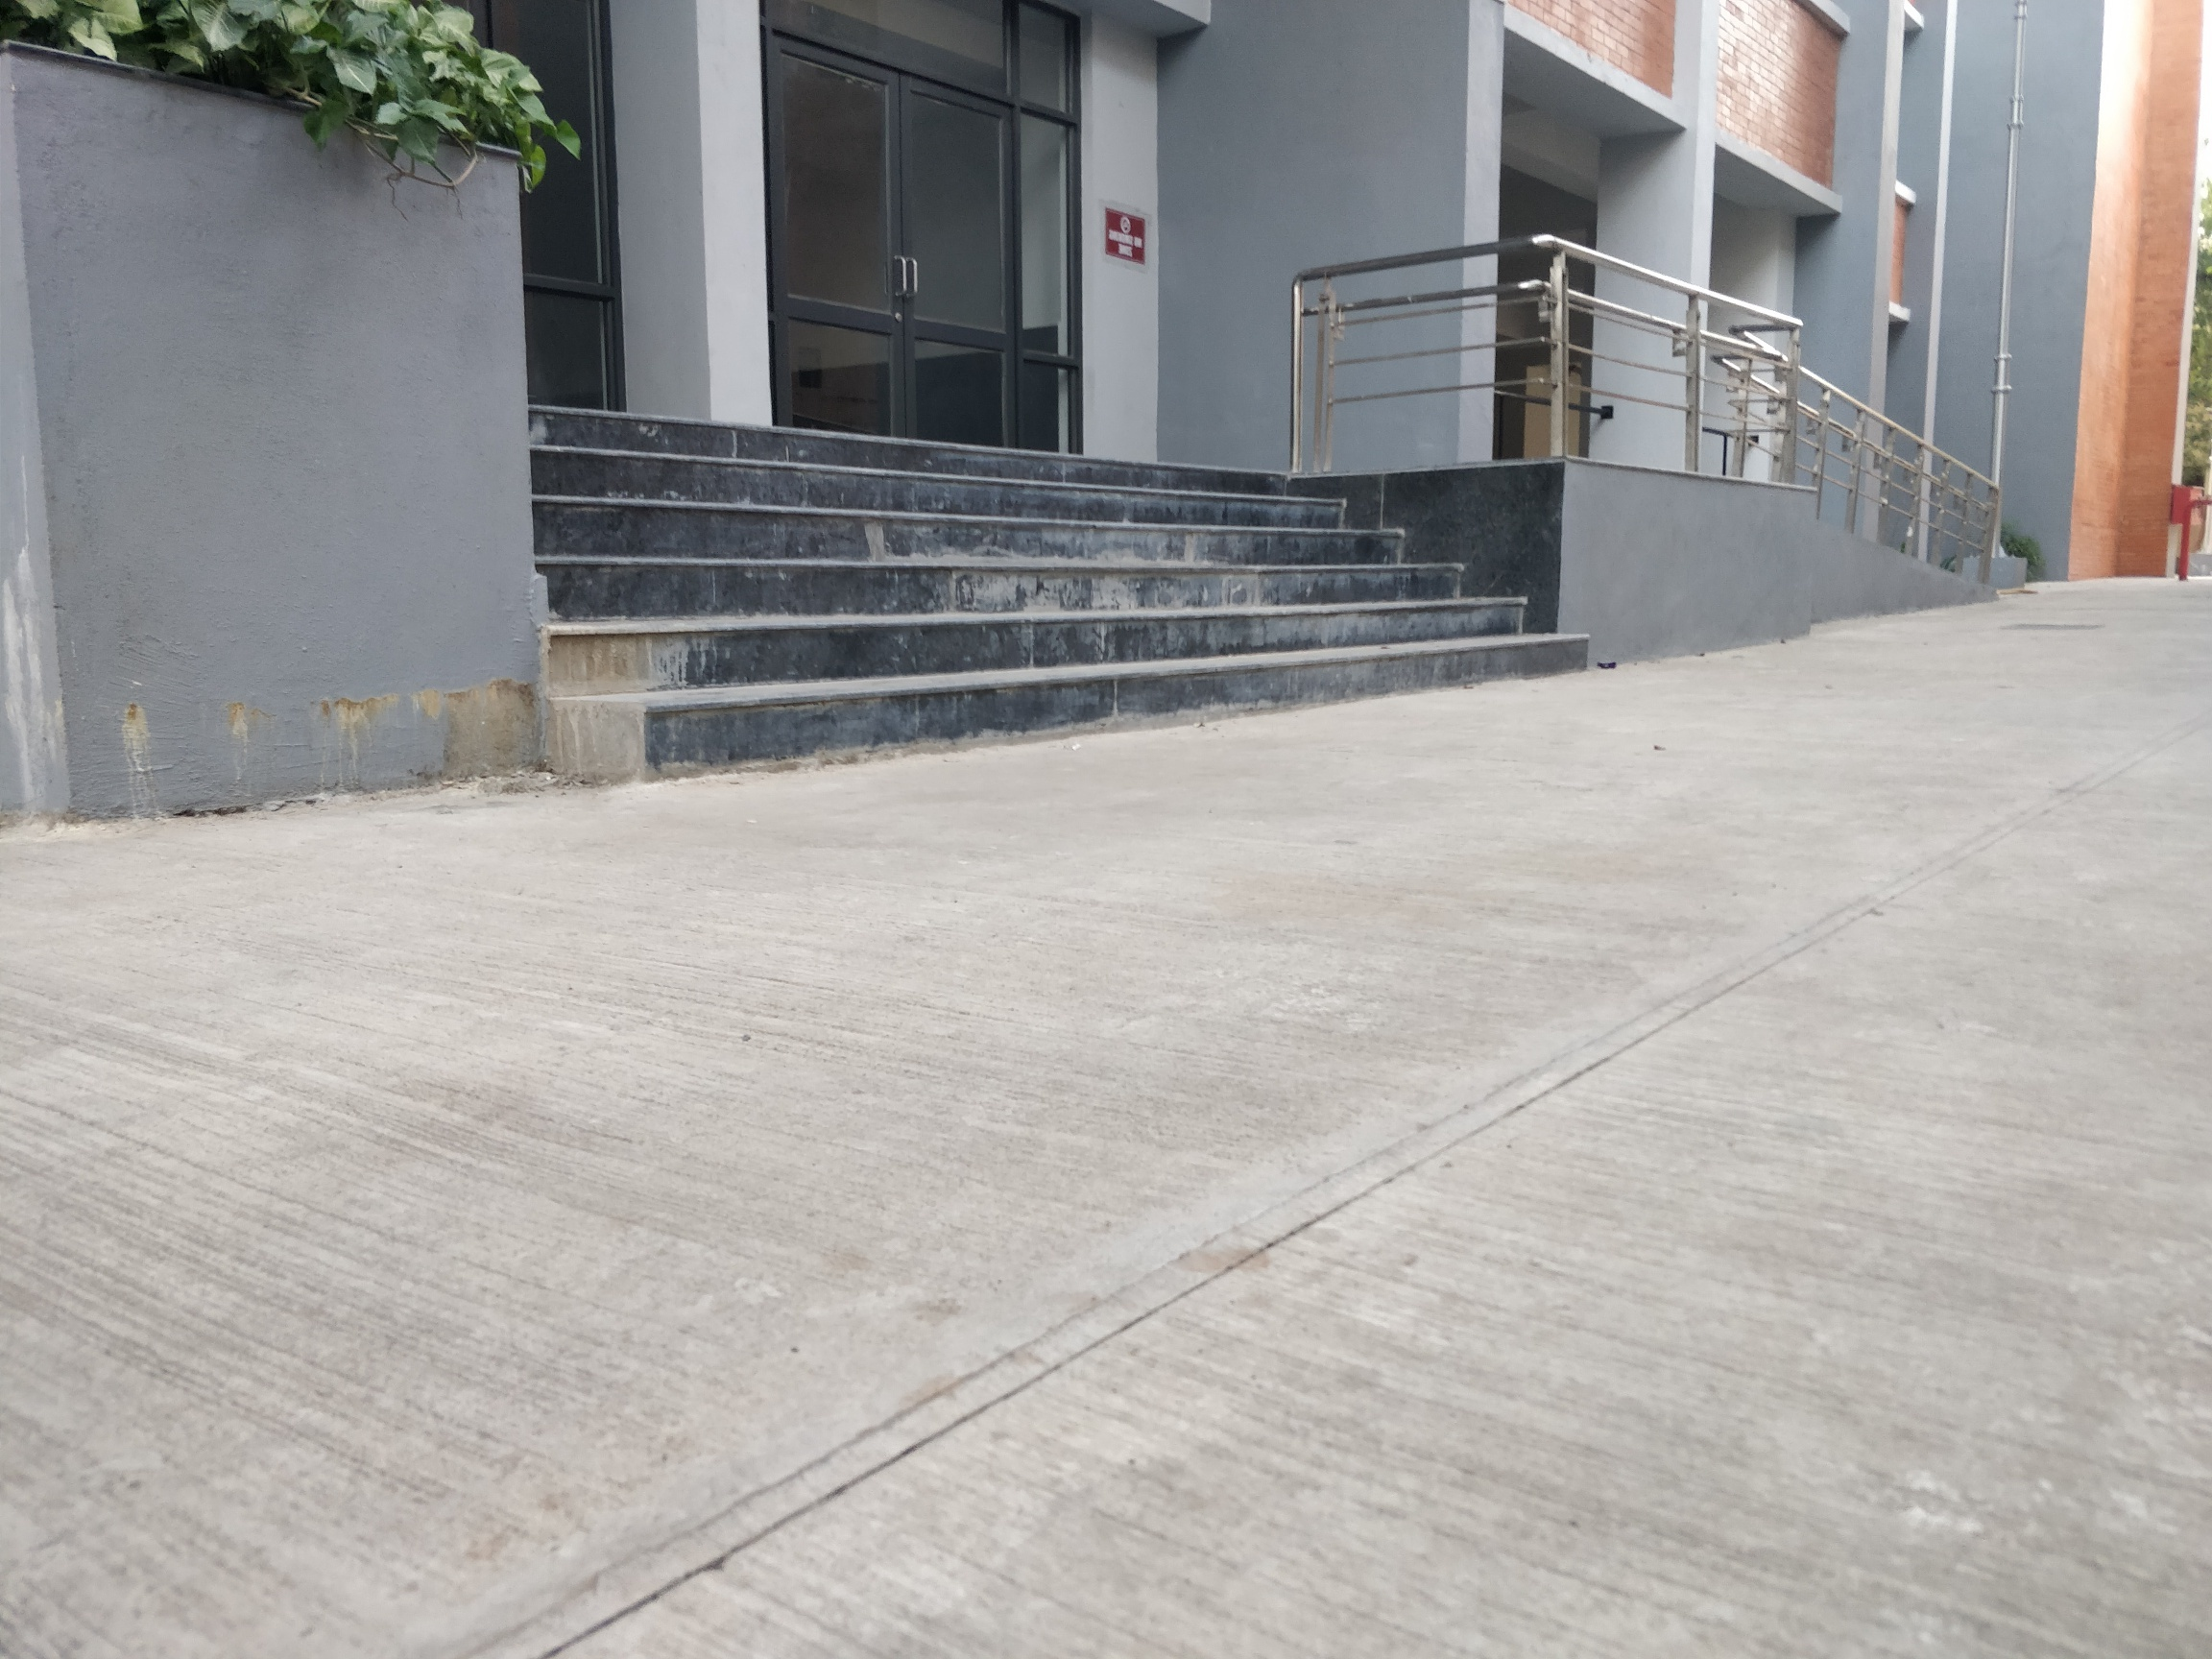stairs_up: (531, 403, 1479, 727)
